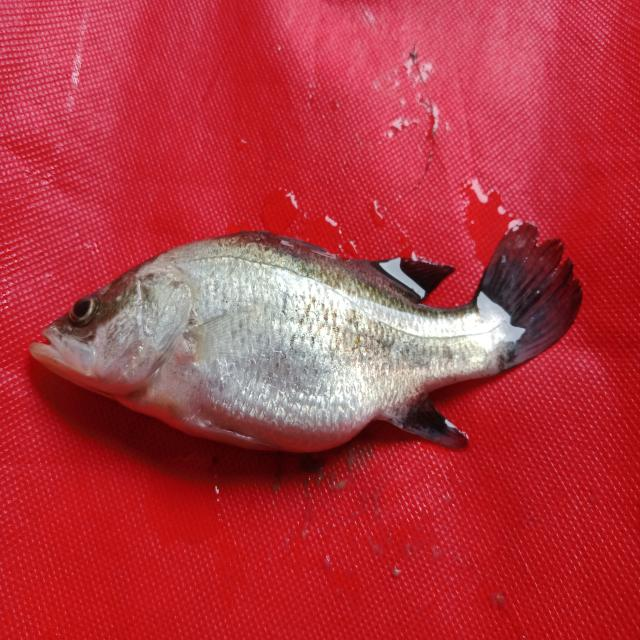ikan: (24, 196, 592, 482)
